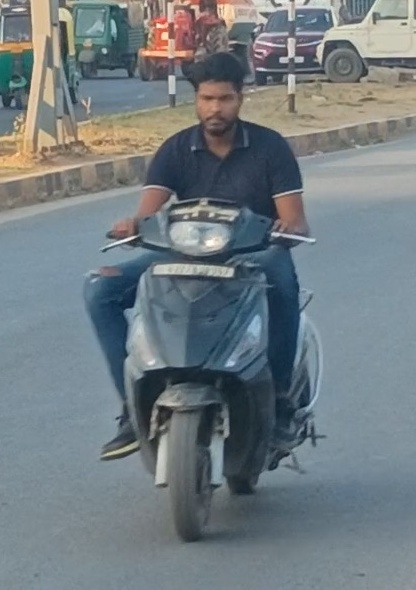BikeWithRider: (74, 45, 334, 548)
NoHelmet: (184, 47, 253, 137)
